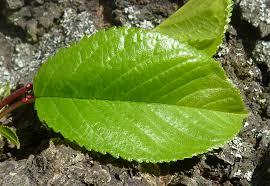healthy_leaf: (31, 19, 251, 169)
